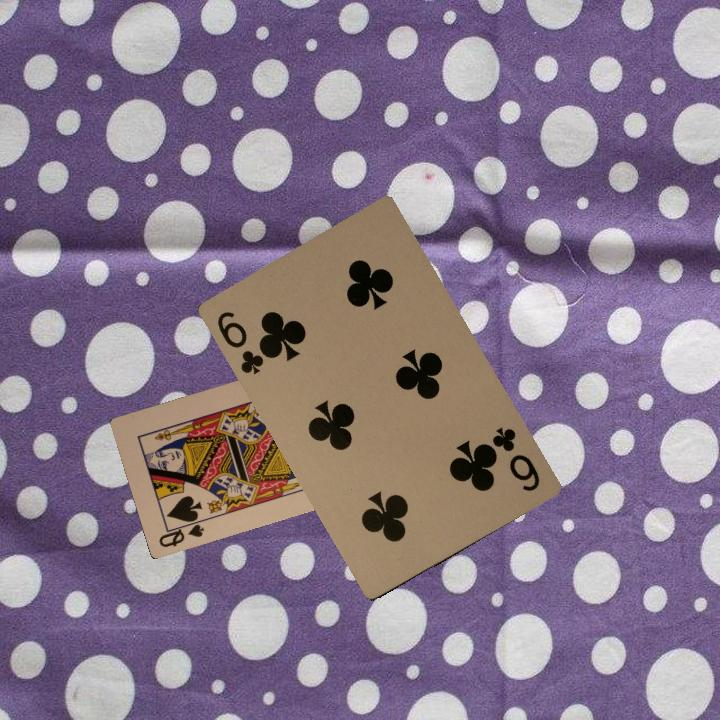6c: (213, 307, 274, 378), (487, 422, 543, 495)
Qs: (155, 515, 207, 550)
